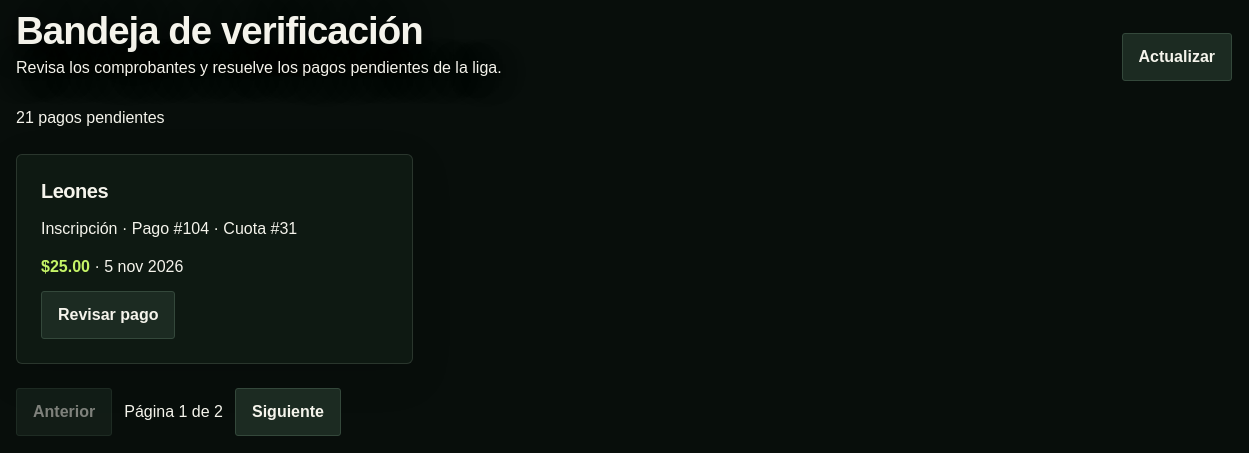
Test: pagina la cola y enlaza el detalle del pago
The image size is (1249, 453).
Click the button "Siguiente". click: (288, 412)
box: [235,388,341,436]
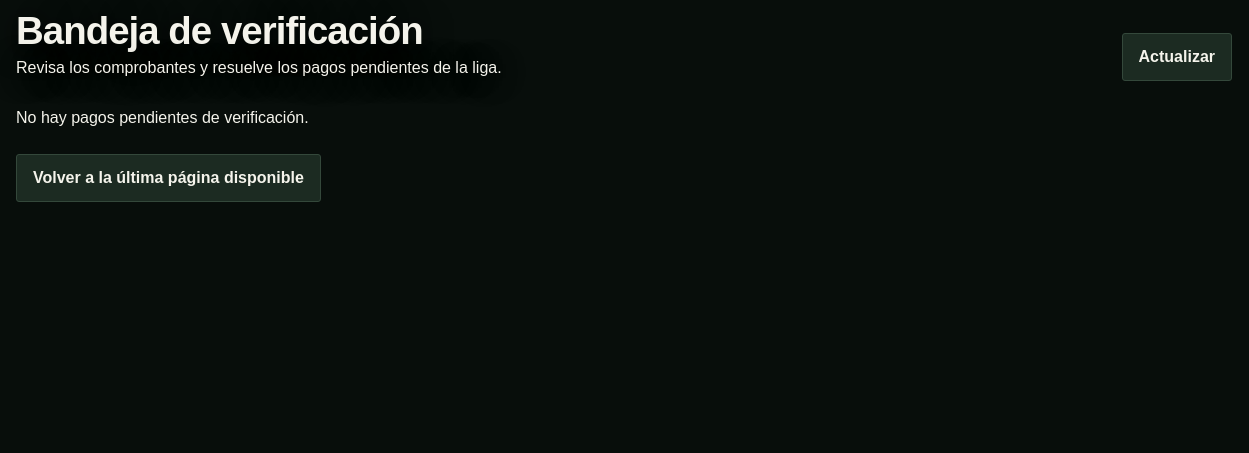
Check: the text "No hay pagos pendientes de verificación." is shown, box [16,109,309,126]
